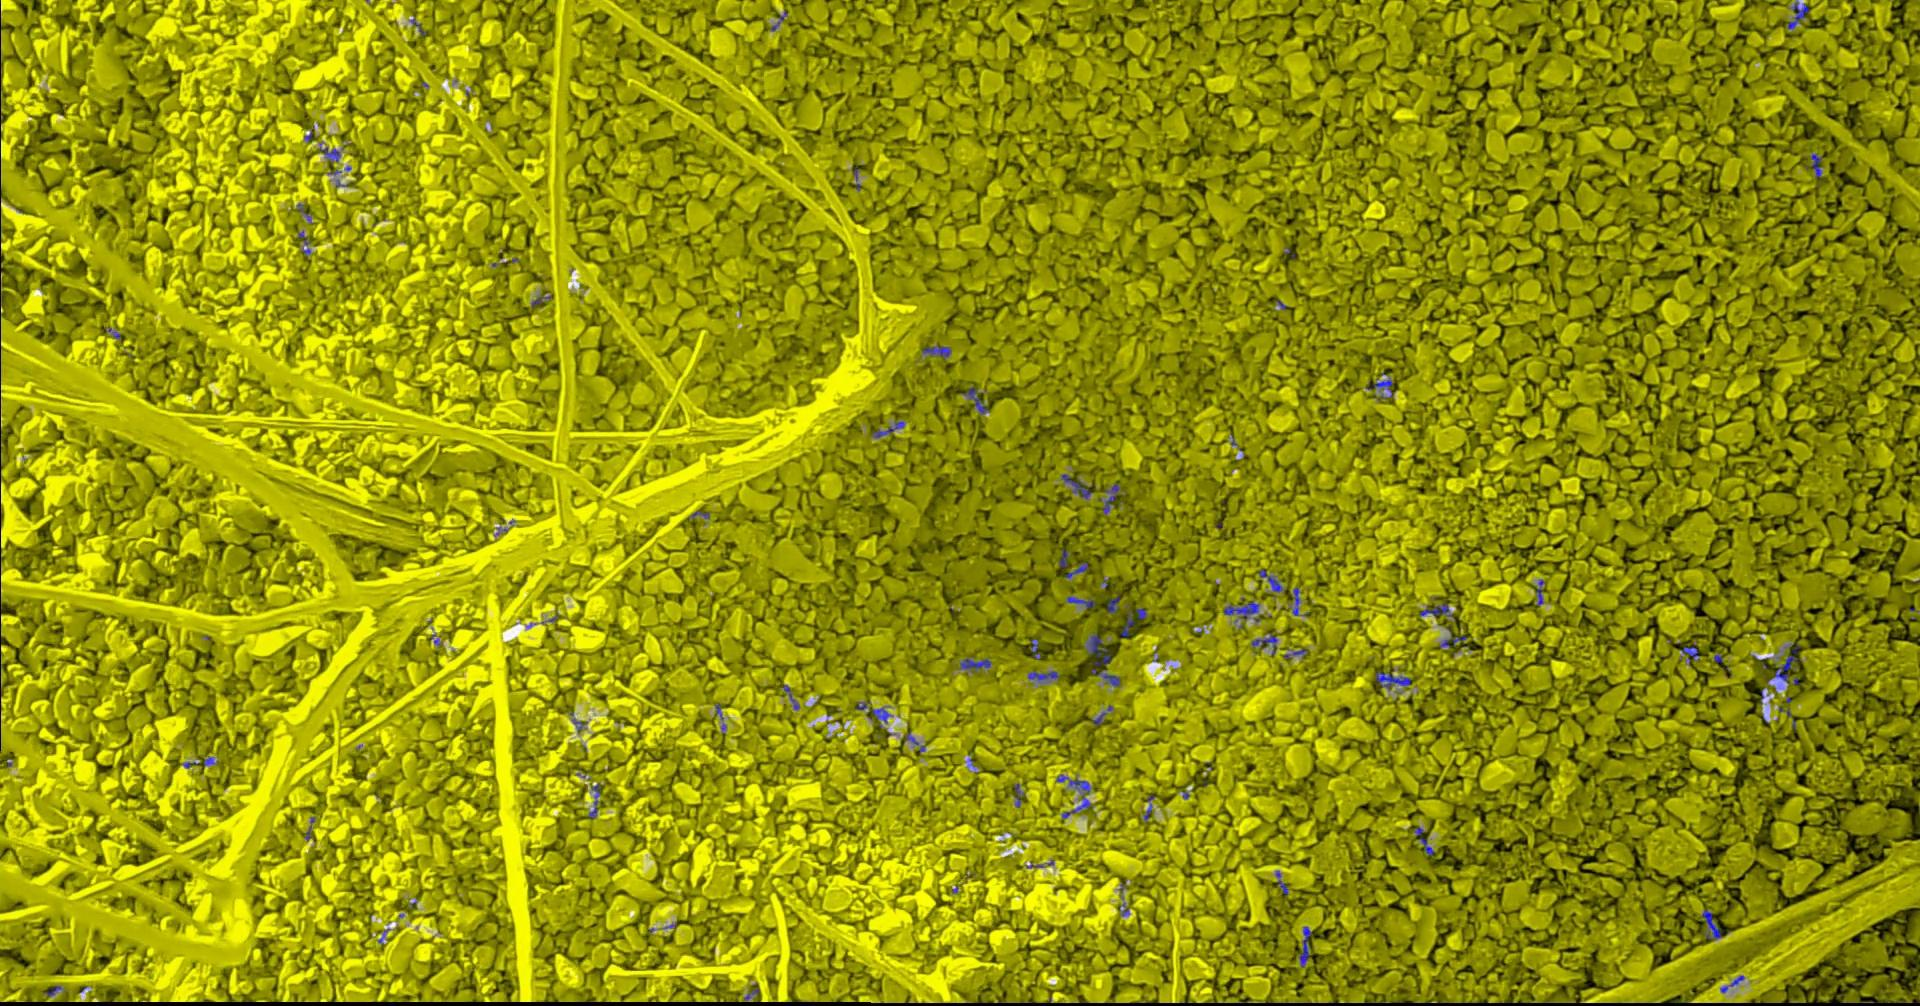ant: (1090, 633, 1121, 686), (1058, 774, 1095, 818), (1773, 643, 1801, 683), (1063, 473, 1095, 498), (1225, 601, 1263, 621), (964, 387, 990, 414), (1123, 607, 1147, 636), (857, 701, 891, 721), (1377, 671, 1412, 690), (1260, 569, 1284, 596), (1416, 826, 1436, 855), (1703, 909, 1723, 939), (1789, 0, 1810, 28), (1103, 483, 1121, 513), (1421, 603, 1457, 619), (874, 420, 905, 437), (1253, 634, 1279, 654), (1302, 926, 1313, 967), (783, 683, 801, 709), (1368, 379, 1394, 395), (589, 782, 601, 818), (1065, 561, 1090, 578), (321, 144, 342, 163), (1683, 643, 1700, 664), (1441, 633, 1468, 647), (1068, 596, 1097, 608), (961, 658, 993, 669), (1029, 669, 1060, 681), (924, 345, 952, 358), (1294, 587, 1305, 615), (1812, 152, 1823, 177), (1145, 795, 1157, 819), (1277, 870, 1289, 894), (1015, 782, 1025, 807), (1109, 594, 1121, 614), (1032, 638, 1043, 659), (1538, 579, 1545, 605), (1060, 549, 1070, 567)
